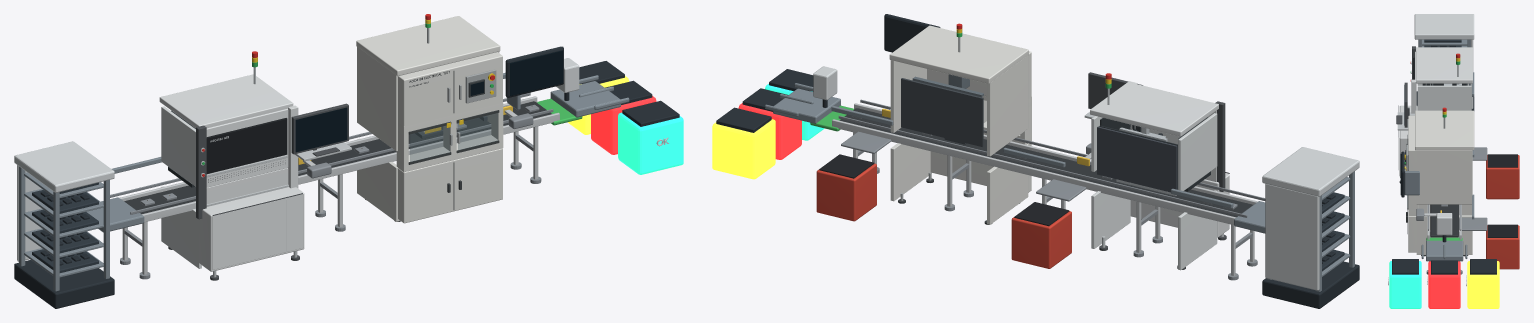
The model's file is mosfet_inspection_line_v10.fbx.
3 renders of one model, left to right at view 1: azimuth 30°, elevation 25°; view 2: azimuth 150°, elevation 25°; view 3: azimuth 270°, elevation 25°, orthographic. The views are drawn at different scales.
Parts seen in each view (by area): view 1: ICT_v9_lower_cabinet, AOI_v6_lower_front, ICT_v9_roof, ICT_v9_upper_cabinet, AOI_v6_body_top, OK_Bin, Loader_Top, ICT_v9_side_upper, AOI_v6_inspection_hatch, Loader_Base, Continuous_belt, Side_extrusion (+41 smaller); view 2: Loader_Back, ICT_v9_roof, ICT_dark_backdrop, AOI_v6_body_top, AOI_back_inner_wall, Side_extrusion.001, Continuous_belt, ICT_v9_side_upper, HOLD_Bin, Loader_Top, NG_bin_body.001, NG_bin_body (+28 smaller); view 3: ICT_v9_side_upper.001, ICT_v9_roof, AOI_v6_body_top, Loader_Top, AOI_v5_side_upper.001, HOLD_Bin, NG_Bin, OK_Bin, NG_bin_body, NG_bin_body.001, Sorter_Transfer, ICT_v9_side_lower.001 (+24 smaller).
Part boxes in pixels (x1,y1,x2,y2): ICT_v9_lower_cabinet: (398,148,502,223); AOI_v6_lower_front: (212,193,303,269); ICT_v9_roof: (356,16,500,76); ICT_v9_upper_cabinet: (398,52,502,126); AOI_v6_body_top: (159,74,293,128); OK_Bin: (618,112,683,174); Loader_Top: (14,141,114,192); ICT_v9_side_upper: (357,47,397,151); AOI_v6_inspection_hatch: (206,118,287,173); Loader_Base: (14,260,114,308); Continuous_belt: (124,101,551,213); Side_extrusion: (142,112,559,222); Loader_Back: (1265,183,1319,290); ICT_v9_roof: (889,25,1028,83); ICT_dark_backdrop: (901,78,983,146); AOI_v6_body_top: (1090,82,1218,136); AOI_back_inner_wall: (1097,126,1177,192); Side_extrusion.001: (832,119,1236,225); Continuous_belt: (839,108,1252,217); ICT_v9_side_upper: (987,55,1028,156); HOLD_Bin: (712,119,775,179); Loader_Top: (1262,147,1359,196); NG_bin_body.001: (816,163,876,221); NG_bin_body: (1011,211,1071,268); ICT_v9_side_upper.001: (1416,150,1472,204); ICT_v9_roof: (1415,110,1474,150); AOI_v6_body_top: (1416,47,1472,83); Loader_Top: (1414,14,1474,39); AOI_v5_side_upper.001: (1417,85,1471,110); HOLD_Bin: (1467,261,1499,308); NG_Bin: (1428,261,1460,308); OK_Bin: (1389,261,1421,308); NG_bin_body: (1486,155,1519,199); NG_bin_body.001: (1486,225,1519,269); Sorter_Transfer: (1426,240,1463,261); ICT_v9_side_lower.001: (1416,215,1472,254).
Bounding box in the file's own units: 970 × 278 × 253.
